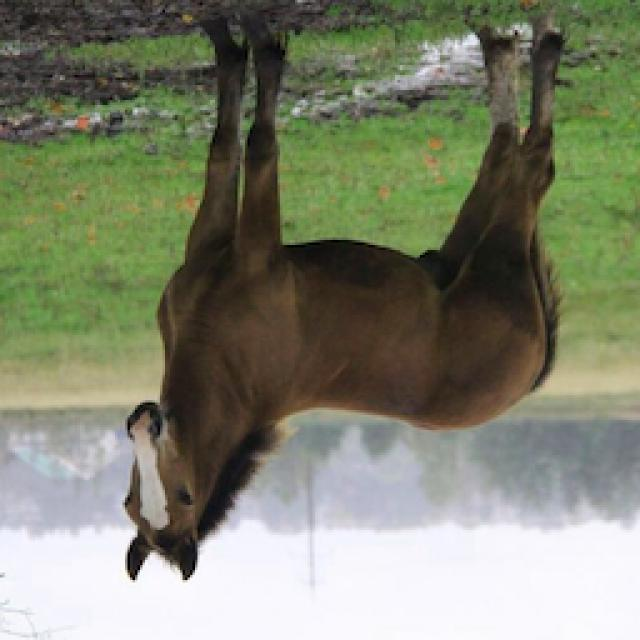Horse: (115, 5, 578, 588)
